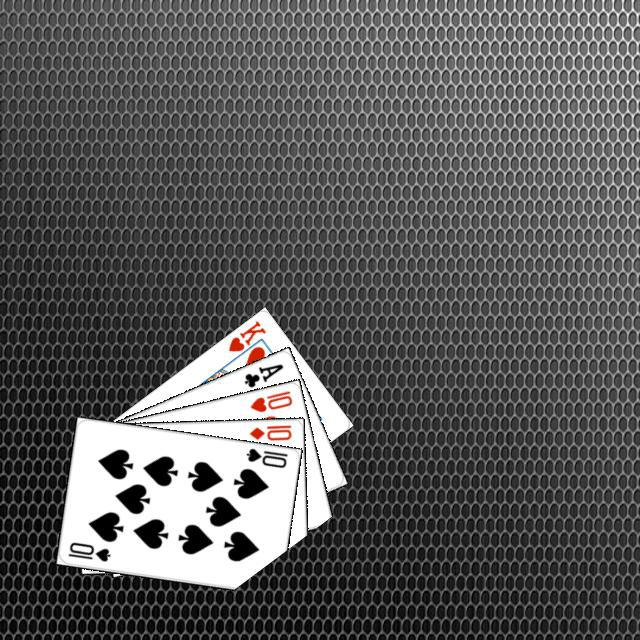10d: (245, 420, 293, 442)
10h: (245, 386, 294, 414)
10s: (241, 443, 289, 470), (63, 537, 112, 563)
Ac: (239, 359, 285, 389)
Kh: (223, 316, 268, 364)
